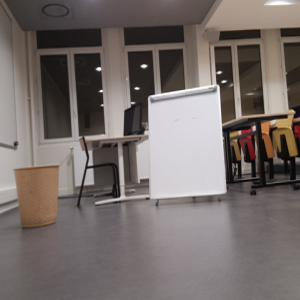big: (147, 86, 227, 197)
medium: (14, 164, 61, 229)
